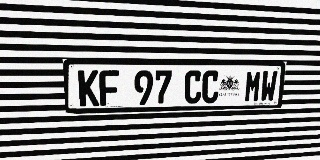7: (153, 70, 172, 105)
9: (134, 70, 153, 105)
C: (201, 70, 220, 103), (184, 70, 202, 104)
F: (99, 70, 119, 106)
K: (78, 70, 99, 106)
M: (244, 70, 262, 102)
W: (260, 71, 278, 102)
